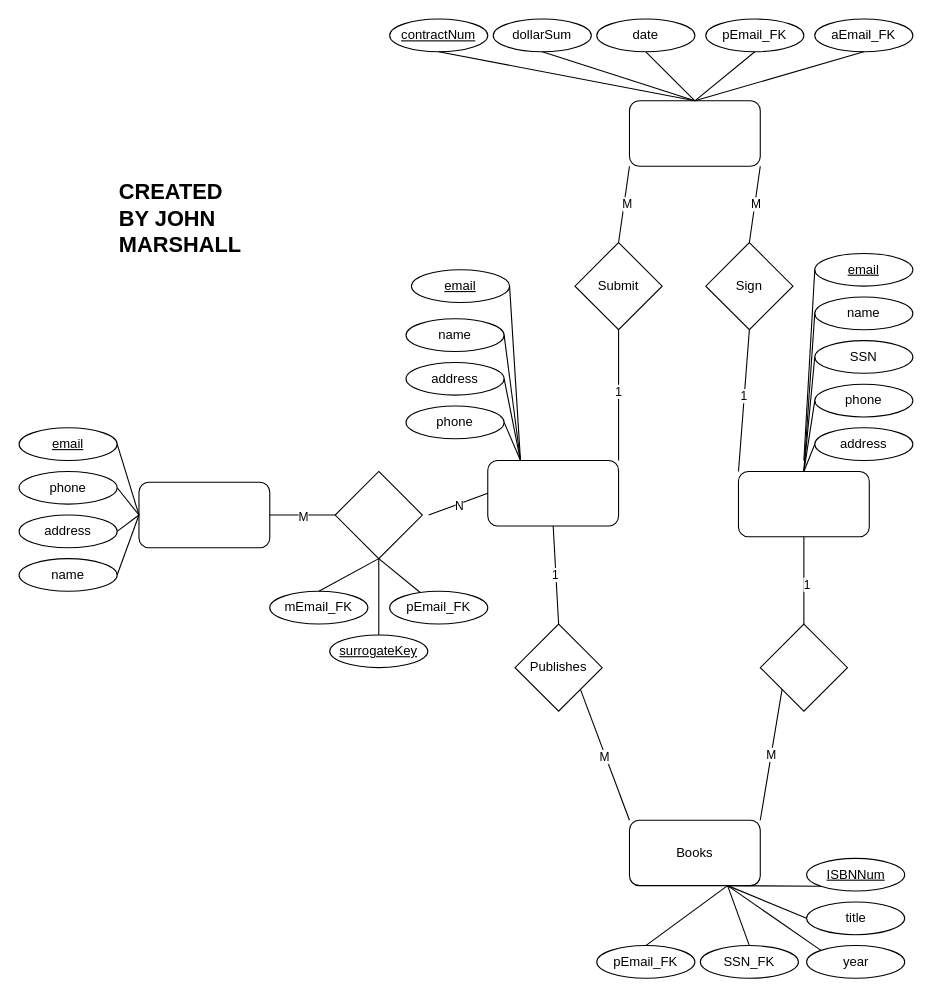
Image size: 932x997. Some labels were removed from this diagram. Here are the shapes that lost their labels. From the top down, the box of each, then its label:
(628, 100, 760, 166): Contracts
(487, 459, 619, 526): Publisher
(737, 470, 869, 537): Author
(138, 481, 270, 548): Marketing Company
(334, 470, 422, 559): markets for
(759, 623, 847, 711): Writes
